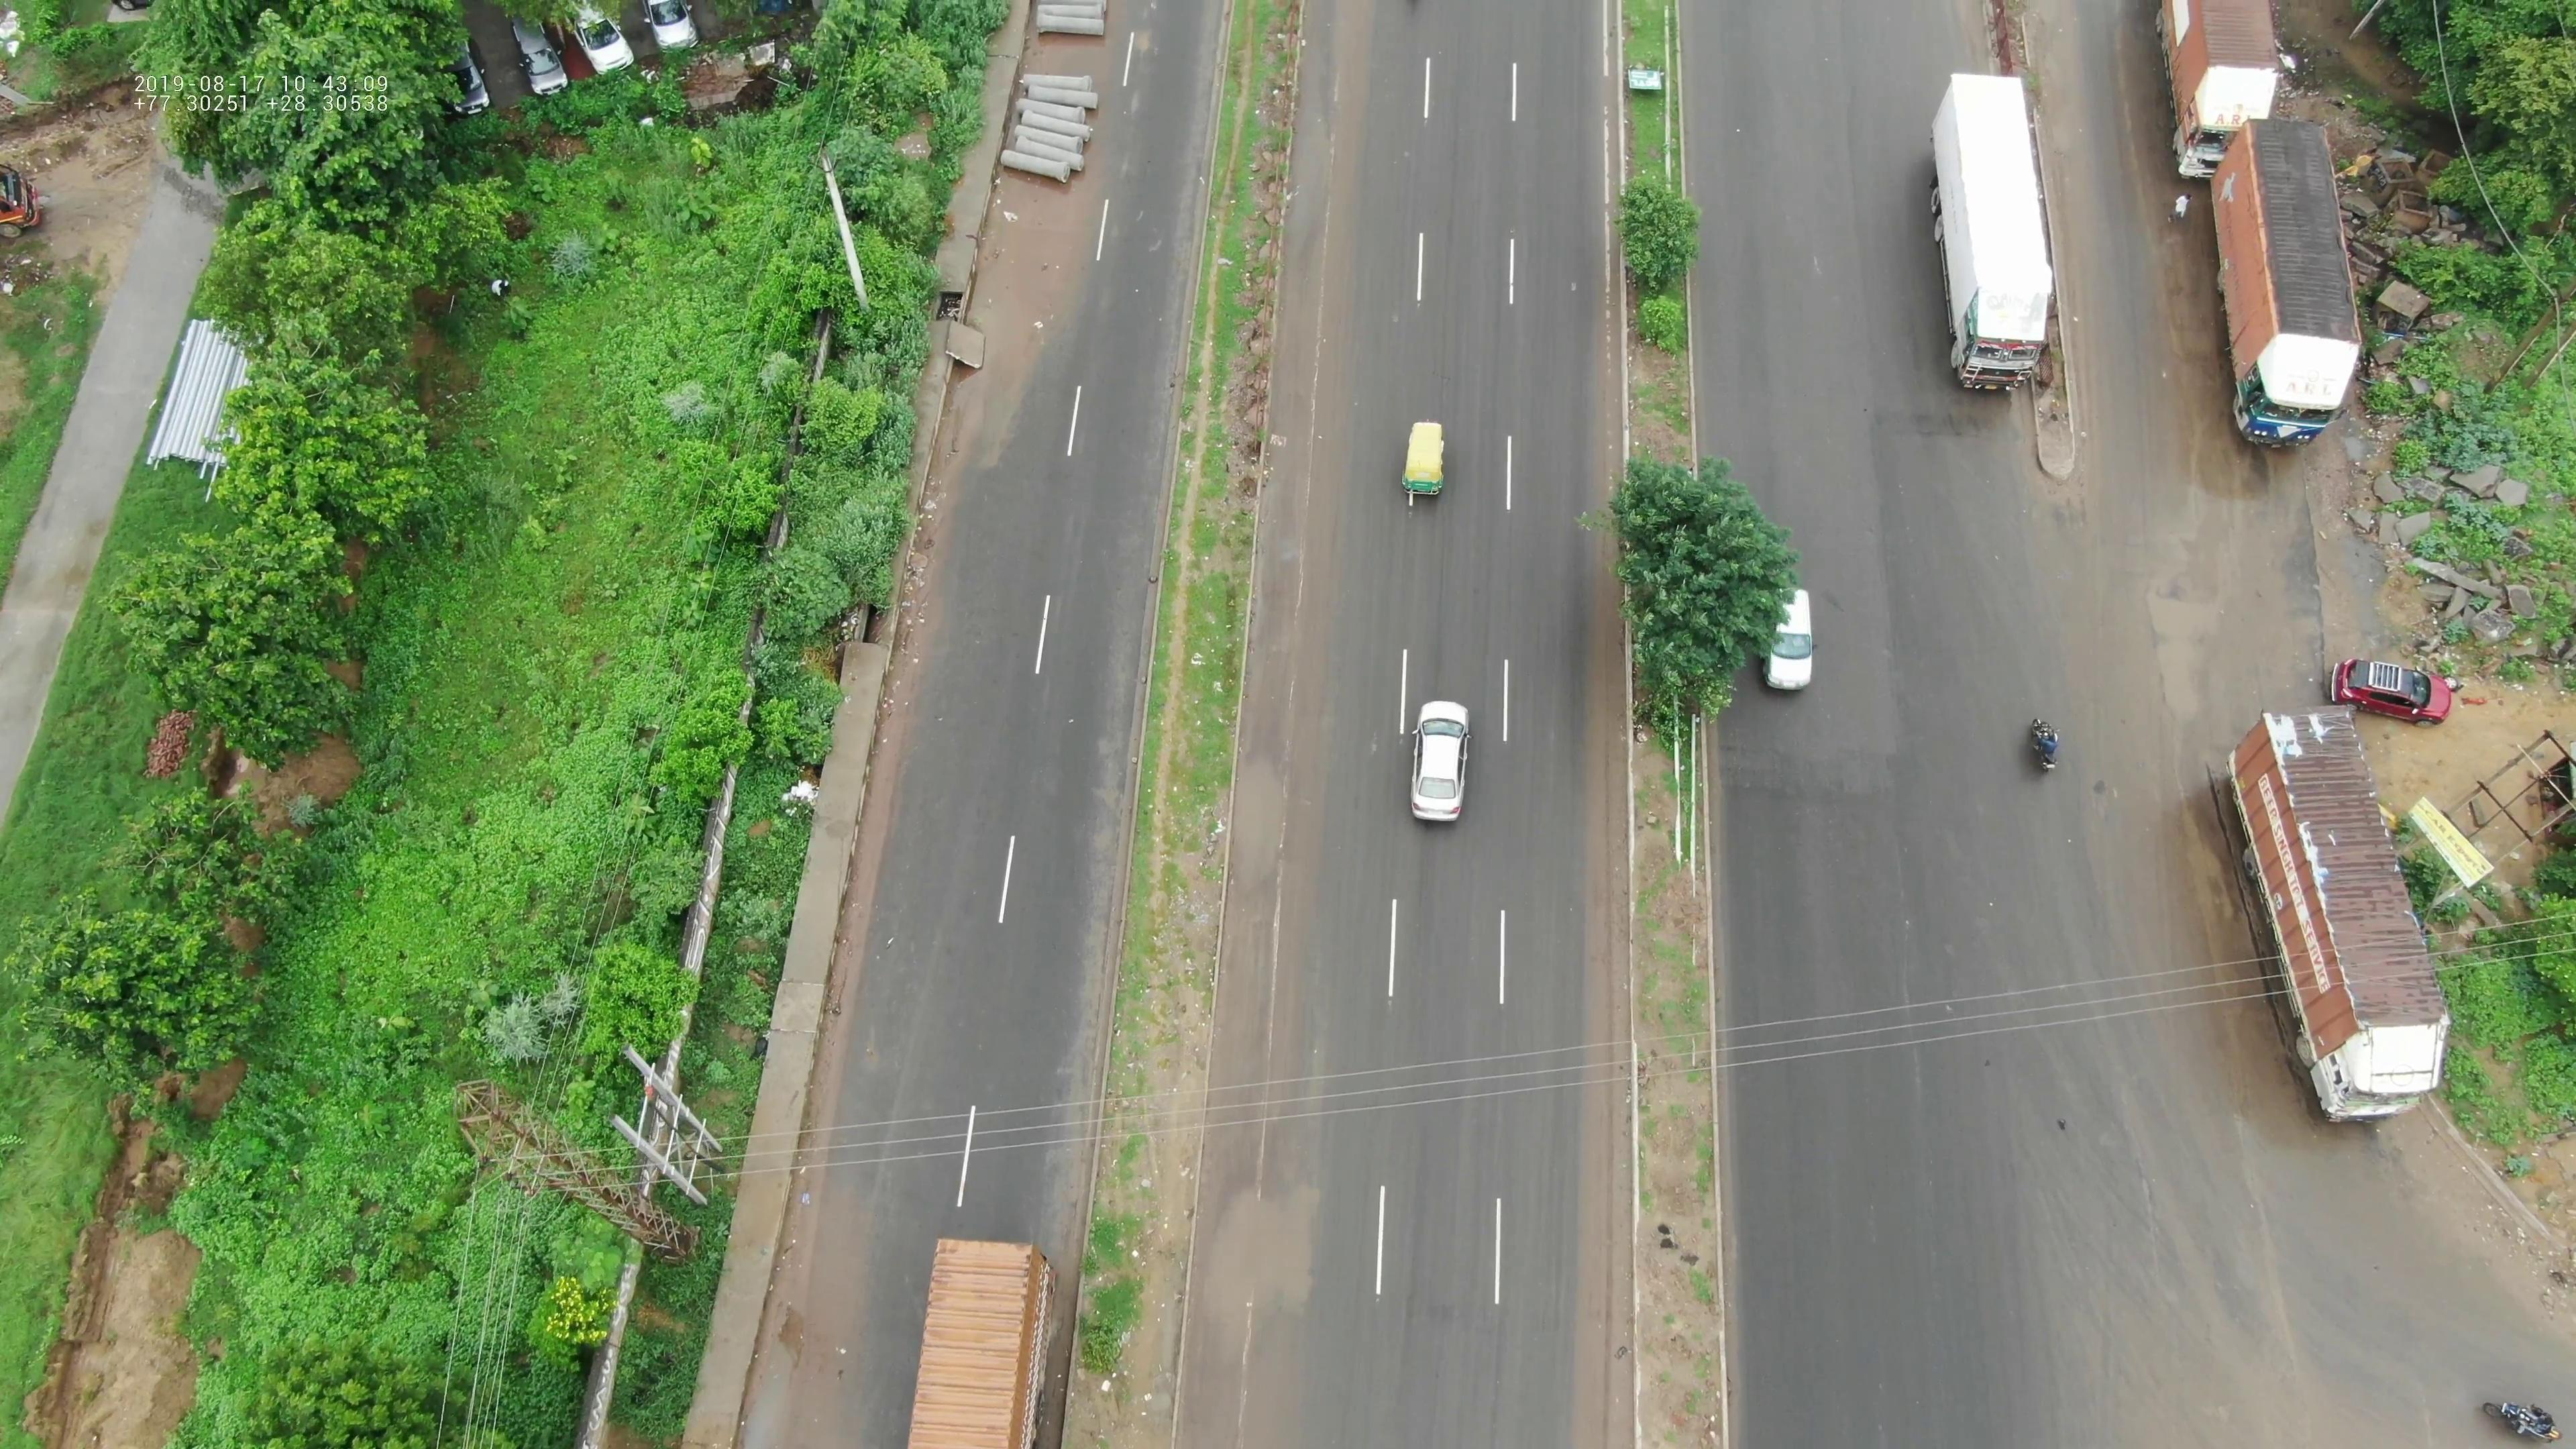Potholes: (1063, 706, 1141, 1023), (2112, 554, 2226, 734)
